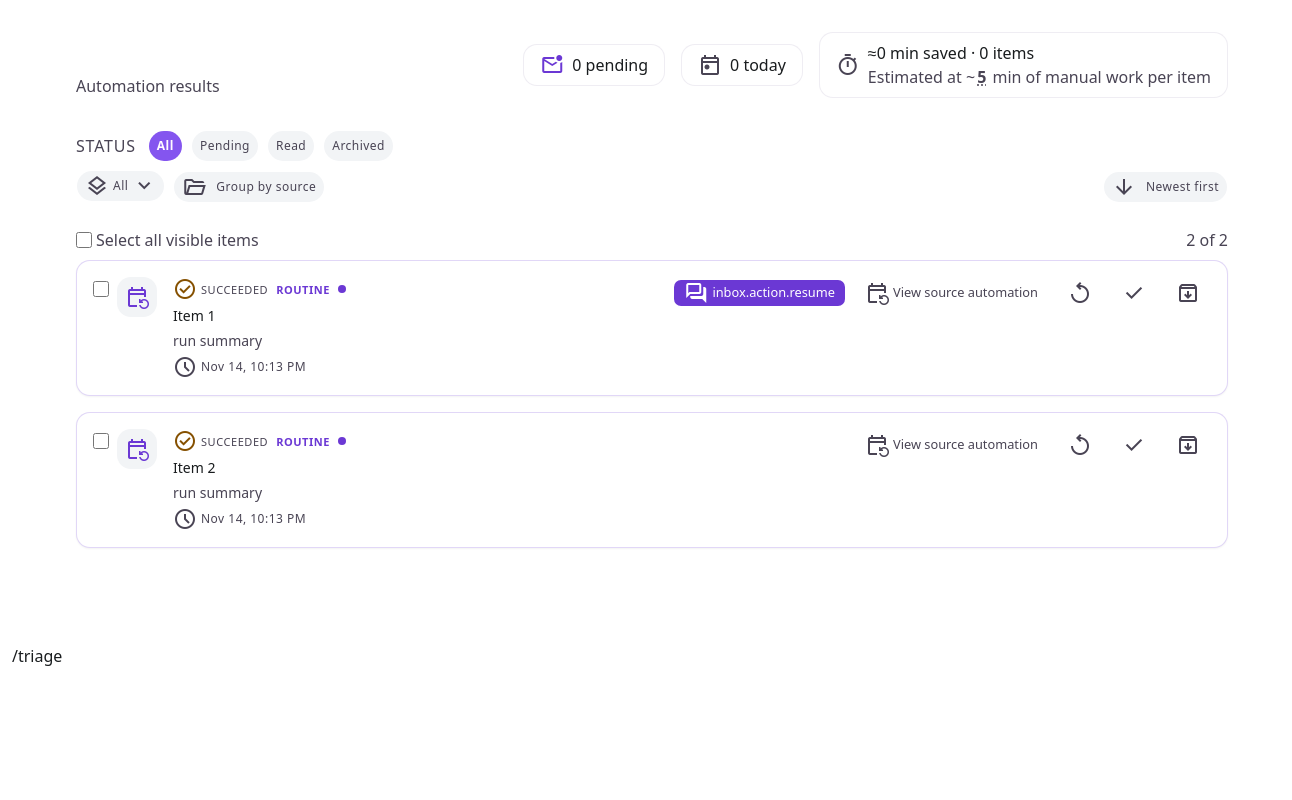
Triage page (inbox) › continue button appears only when the item has a session and switches to it
Click the button with aria-label "Continue this item session" at (760, 293), box [673,279,846,307]
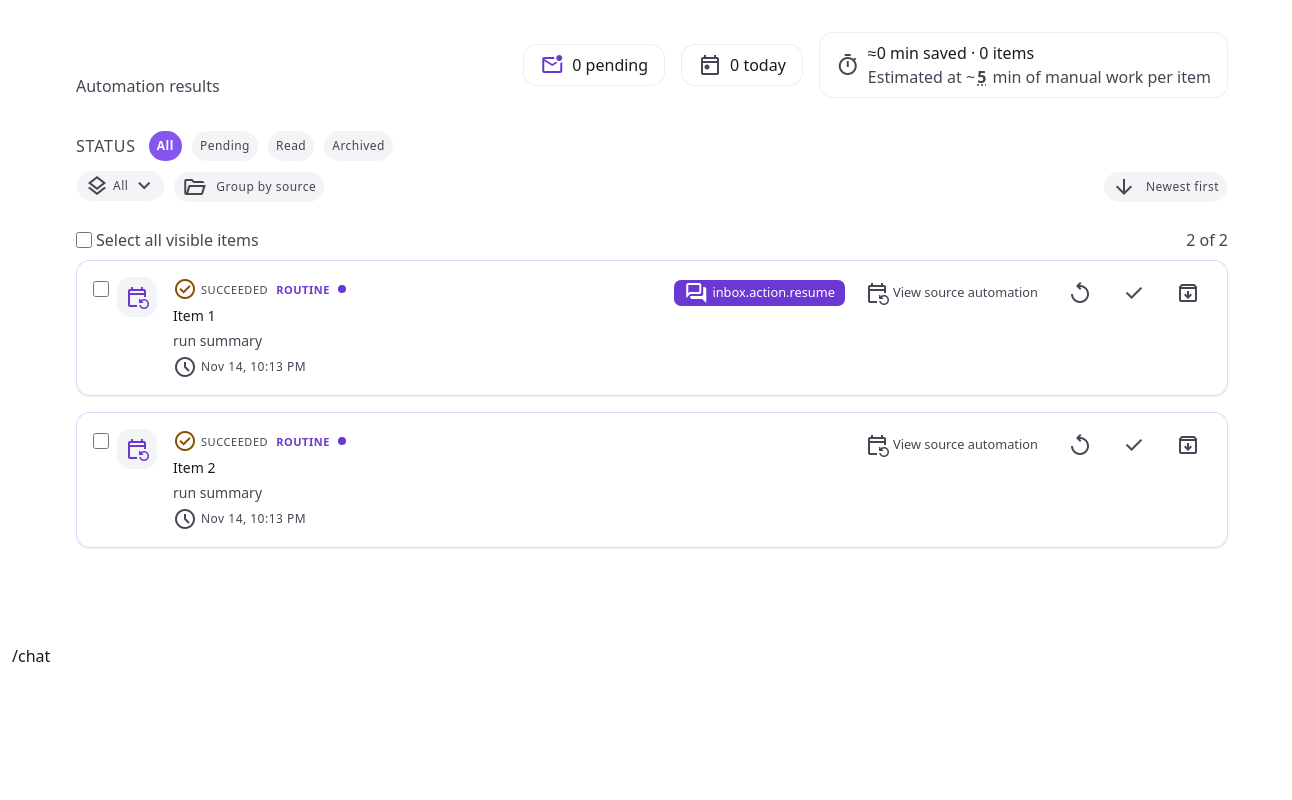
Now the text with test id "location" reads "/chat", box [12,645,50,667]
